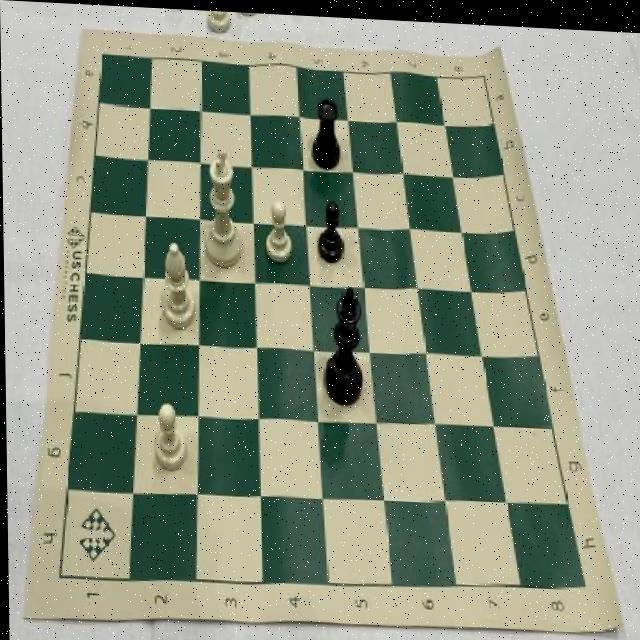black-bishop: (318, 279, 367, 410)
black-knight: (314, 197, 344, 267)
black-queen: (307, 91, 344, 170)
black-rook: (155, 237, 197, 330)
white-bishop: (203, 145, 244, 271)
white-knight: (152, 398, 187, 473), (262, 192, 294, 264)
